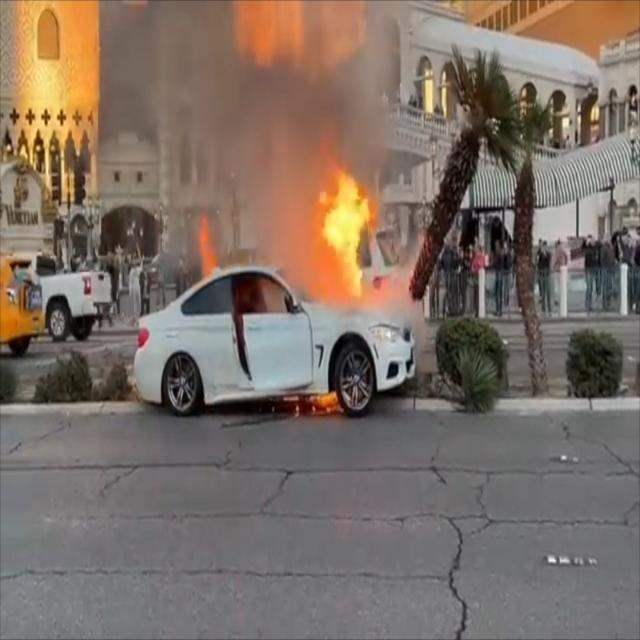fire: (304, 144, 380, 308)
